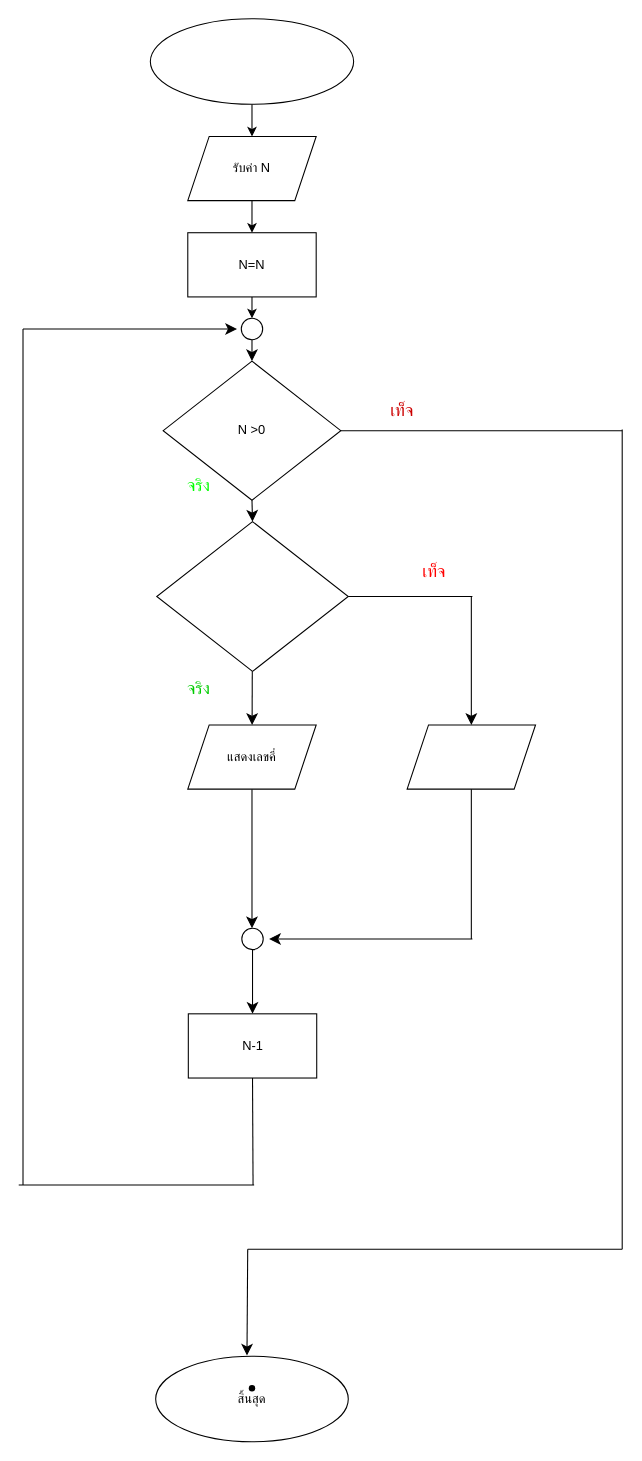
This 642x1461 diagram has some shape labels left out. Each missing label, with the centre of its shape:
"N % 2 == 1" goes at (252,596).
"เริ่มต้น" goes at (251,61).
"แสดงเลขคู่" goes at (471,756).
